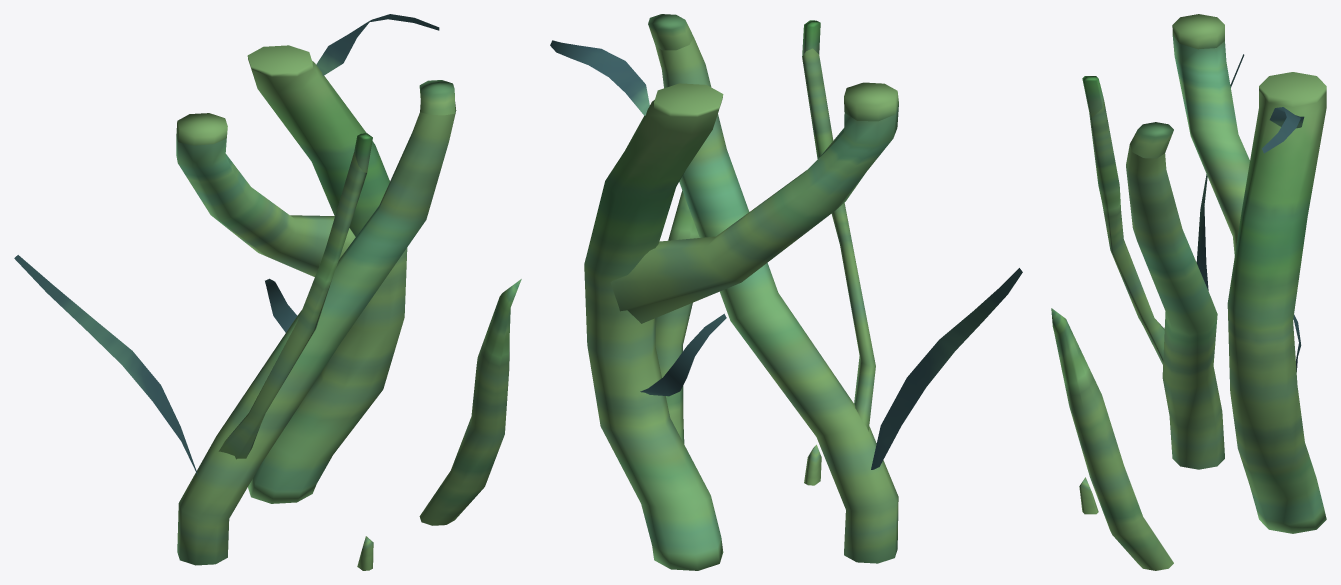
The model's file is stems01.fbx.
3 renders of one model, left to right at view 1: azimuth 30°, elevation 25°; view 2: azimuth 150°, elevation 25°; view 3: azimuth 270°, elevation 25°, orthographic. The views are drawn at different scales.
Parts seen in each view (by area): view 1: stems01; view 2: stems01; view 3: stems01.
Boxes of the visible parts, <box> form: stems01: <box>14,14,521,570</box>; stems01: <box>550,14,1022,570</box>; stems01: <box>1051,14,1326,570</box>.
Size of the model in its own units: 1.06 by 1.05 by 0.5761.
